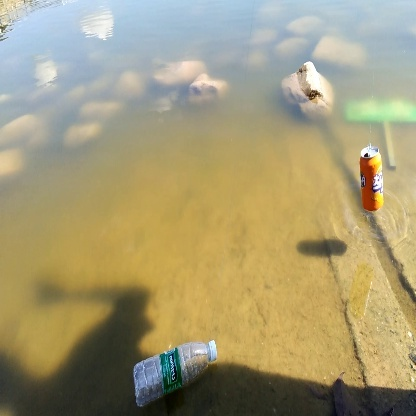bottle: (126, 339, 219, 409), (360, 141, 387, 220)
